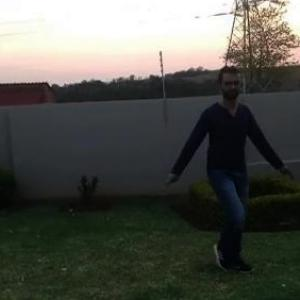land: (157, 65, 282, 273)
